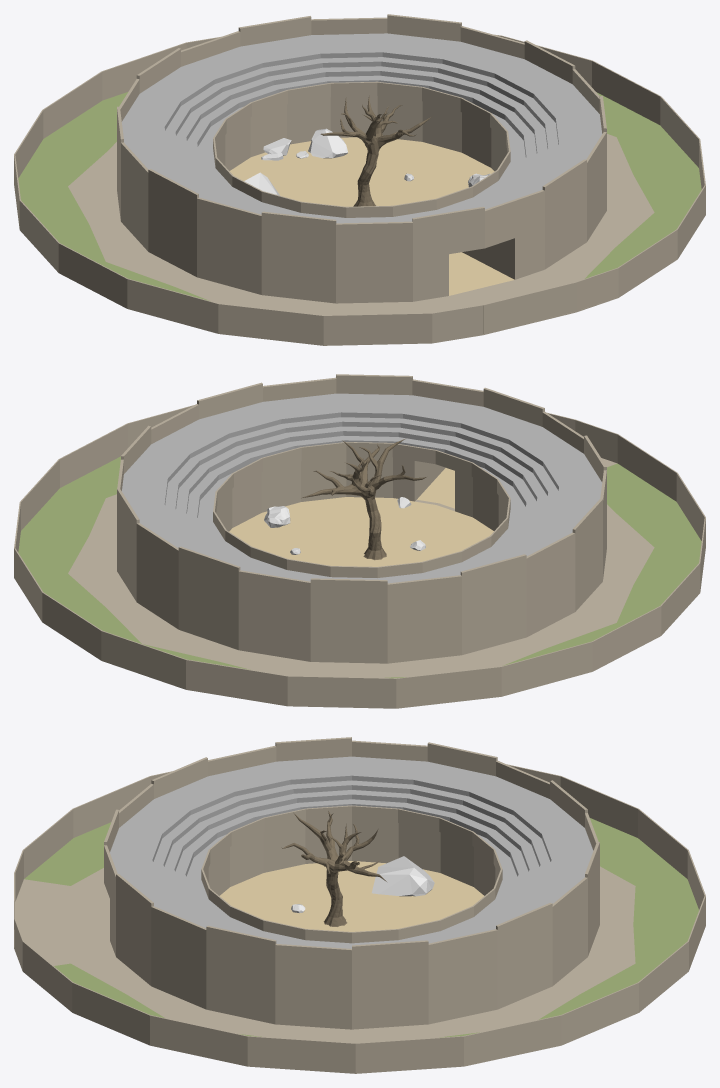
Rendered from stadium-triangles-no-grass.dae.
3 views of the same model, one above another, from view 1: azimuth 30°, elevation 25°; view 2: azimuth 150°, elevation 25°; view 3: azimuth 270°, elevation 25° (orthographic).
Parts seen in each view (by area): view 1: Cylinder_001, Cylinder_002, Arvore, rock_10_GEO; view 2: Cylinder_001, Cylinder_002, Arvore; view 3: Cylinder_001, Cylinder_002, Arvore, rock_07_GEO.
Part boxes in pixels (bbox=[...]): Cylinder_001: bbox=[14, 14, 705, 345]; Cylinder_002: bbox=[18, 92, 701, 301]; Arvore: bbox=[320, 96, 432, 206]; rock_10_GEO: bbox=[308, 128, 347, 158]; Cylinder_001: bbox=[14, 374, 705, 708]; Cylinder_002: bbox=[18, 456, 701, 678]; Arvore: bbox=[301, 438, 426, 560]; Cylinder_001: bbox=[14, 737, 705, 1073]; Cylinder_002: bbox=[24, 818, 698, 1037]; Arvore: bbox=[281, 810, 386, 926]; rock_07_GEO: bbox=[372, 856, 434, 896].
Size of the model in its own units: 74.03 by 73.14 by 14.35.
